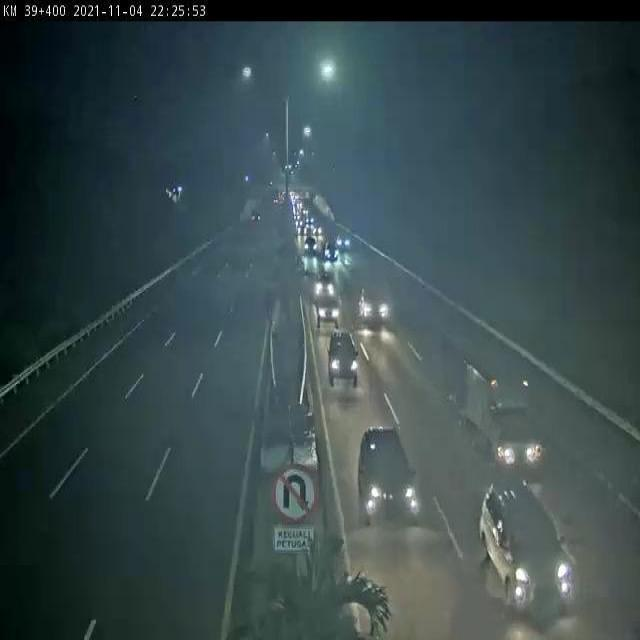car: (485, 482, 577, 610), (358, 430, 422, 522), (329, 331, 358, 384), (359, 290, 390, 334), (319, 299, 347, 336), (316, 269, 342, 299), (324, 245, 342, 264)
truck: (466, 360, 544, 472)
